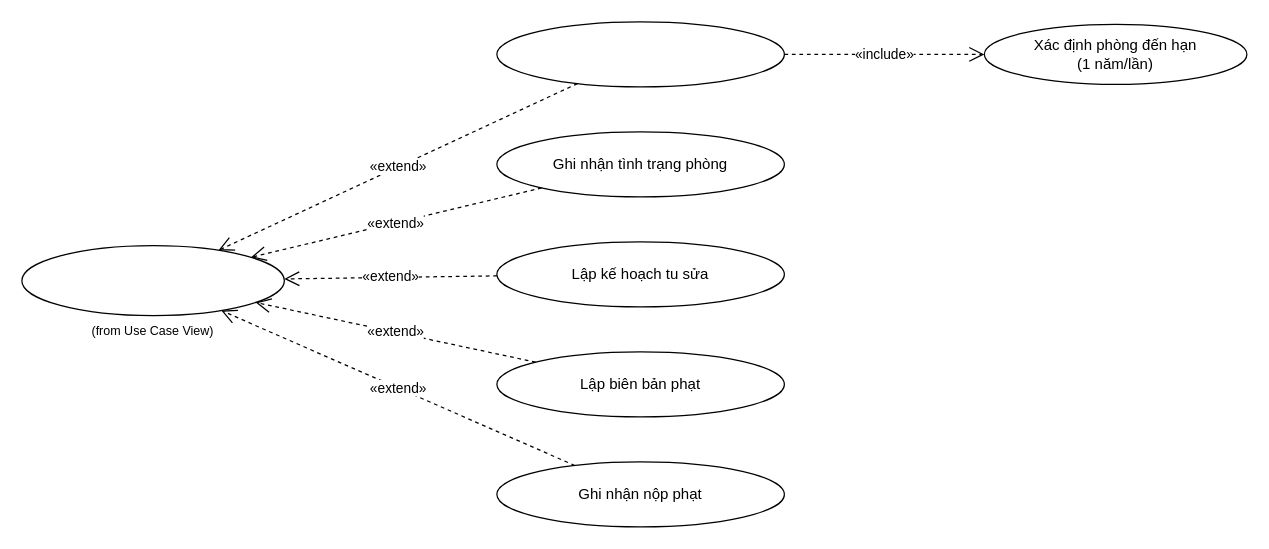
Image size: 1269x549. Some labels were removed from this diagram. The shapes that lost their labels are listed below. From the top down, each one's centre as x and y in pixels, then its label:
(x=640, y=54): Lập đợt kiểm tra
(x=152, y=280): Kiểm tra phòng
